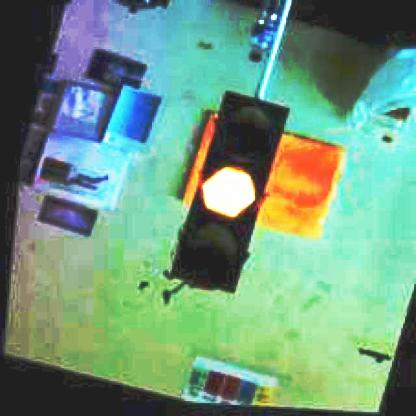Traffic Light -Yellow-: (169, 93, 289, 299)
